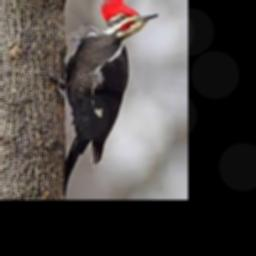Woodpecker: (39, 0, 157, 198)
